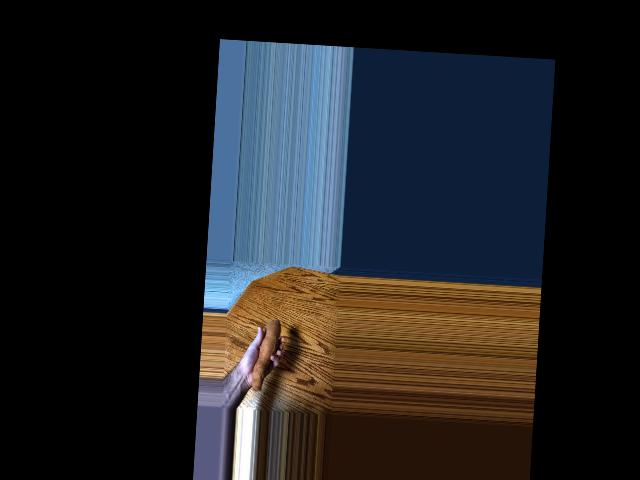sweet_potato: (250, 316, 281, 390)
